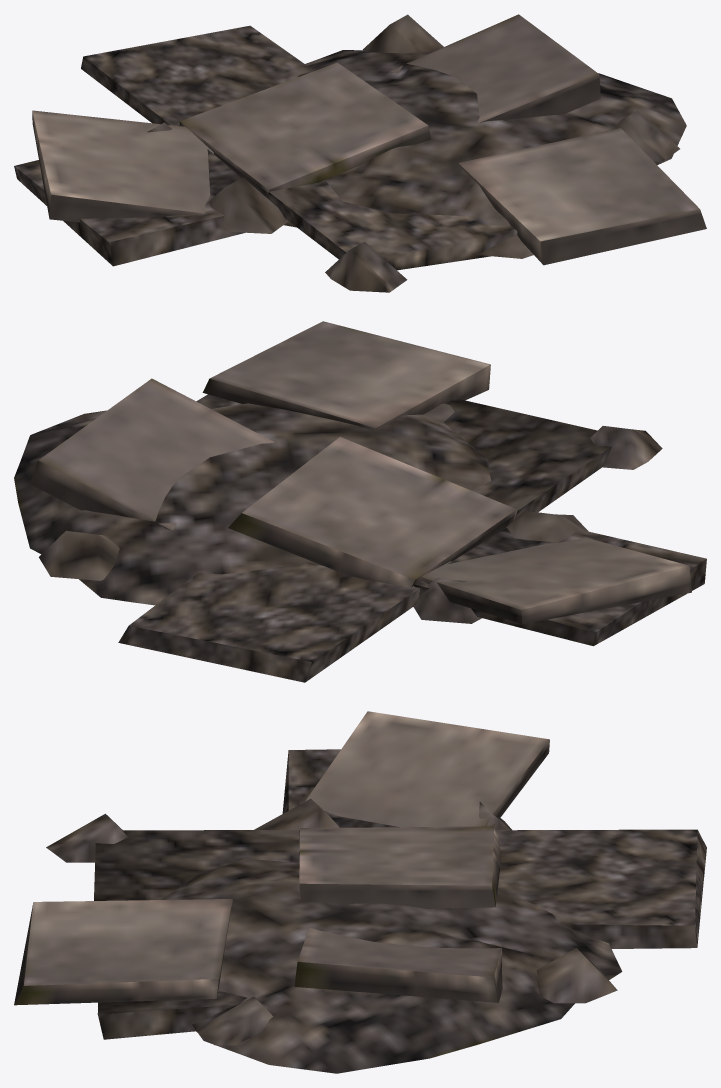
File: SM_zhucheng_Floors_Rubble02.FBX
The picture shows the model from 3 angles, top to bottom: view 1: azimuth 30°, elevation 25°; view 2: azimuth 150°, elevation 25°; view 3: azimuth 270°, elevation 25°; orthographic projection. The views are drawn at different scales.
Visible parts, largest first — view 1: SM_zhucheng_Floors_Rubble02; view 2: SM_zhucheng_Floors_Rubble02; view 3: SM_zhucheng_Floors_Rubble02.
Part boxes in pixels (bbox=[...]): SM_zhucheng_Floors_Rubble02: bbox=[14, 14, 706, 292]; SM_zhucheng_Floors_Rubble02: bbox=[14, 321, 706, 682]; SM_zhucheng_Floors_Rubble02: bbox=[14, 711, 706, 1073].
Size of the model in its own units: 126 by 14.79 by 116.
